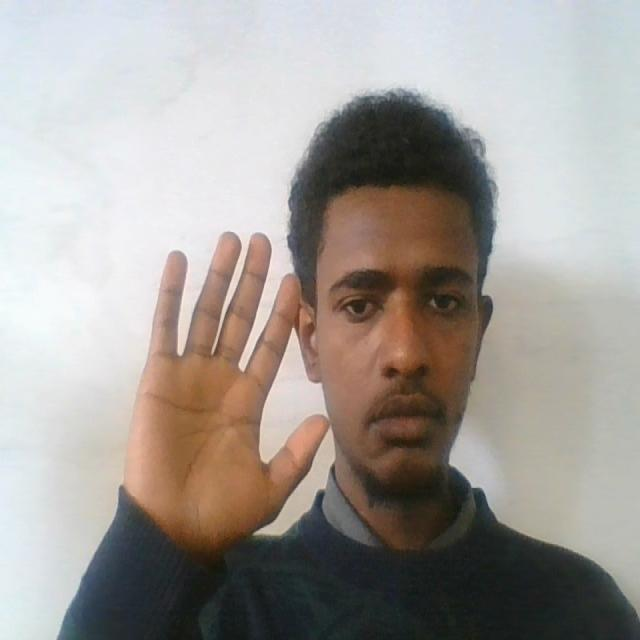hello: (115, 226, 334, 569)
